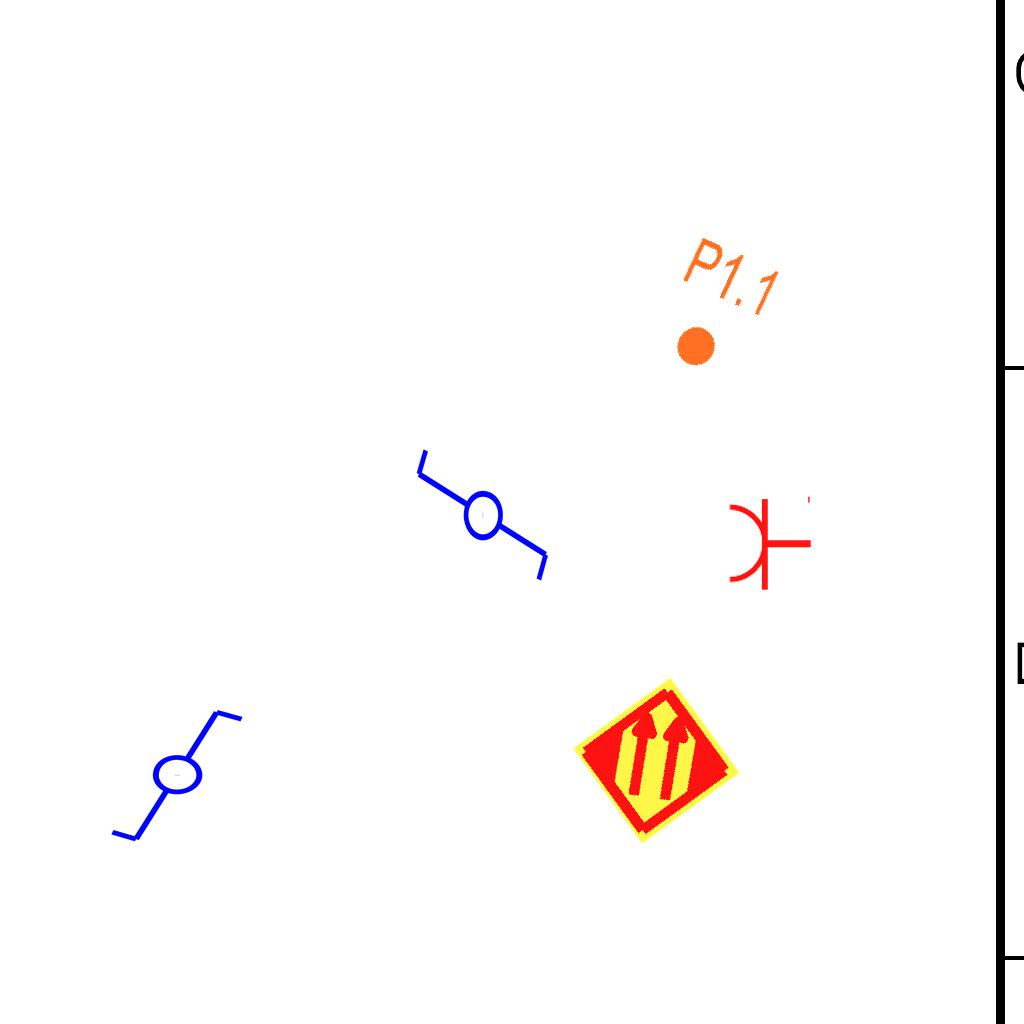ASR_Ansaugrauchmelder: (569, 673, 744, 848)
Downlight_LED_Einbauleuchten_Flur: (647, 232, 786, 388)
Schukosteckdose_einfach: (726, 492, 813, 592)
Wechselschalter: (107, 705, 264, 849), (409, 445, 553, 602)
